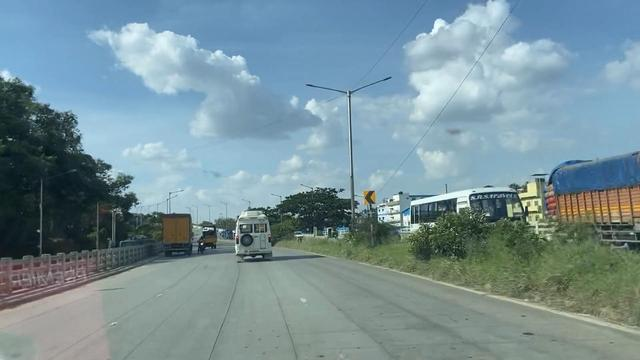HMV: (233, 210, 271, 262), (157, 212, 194, 258)
